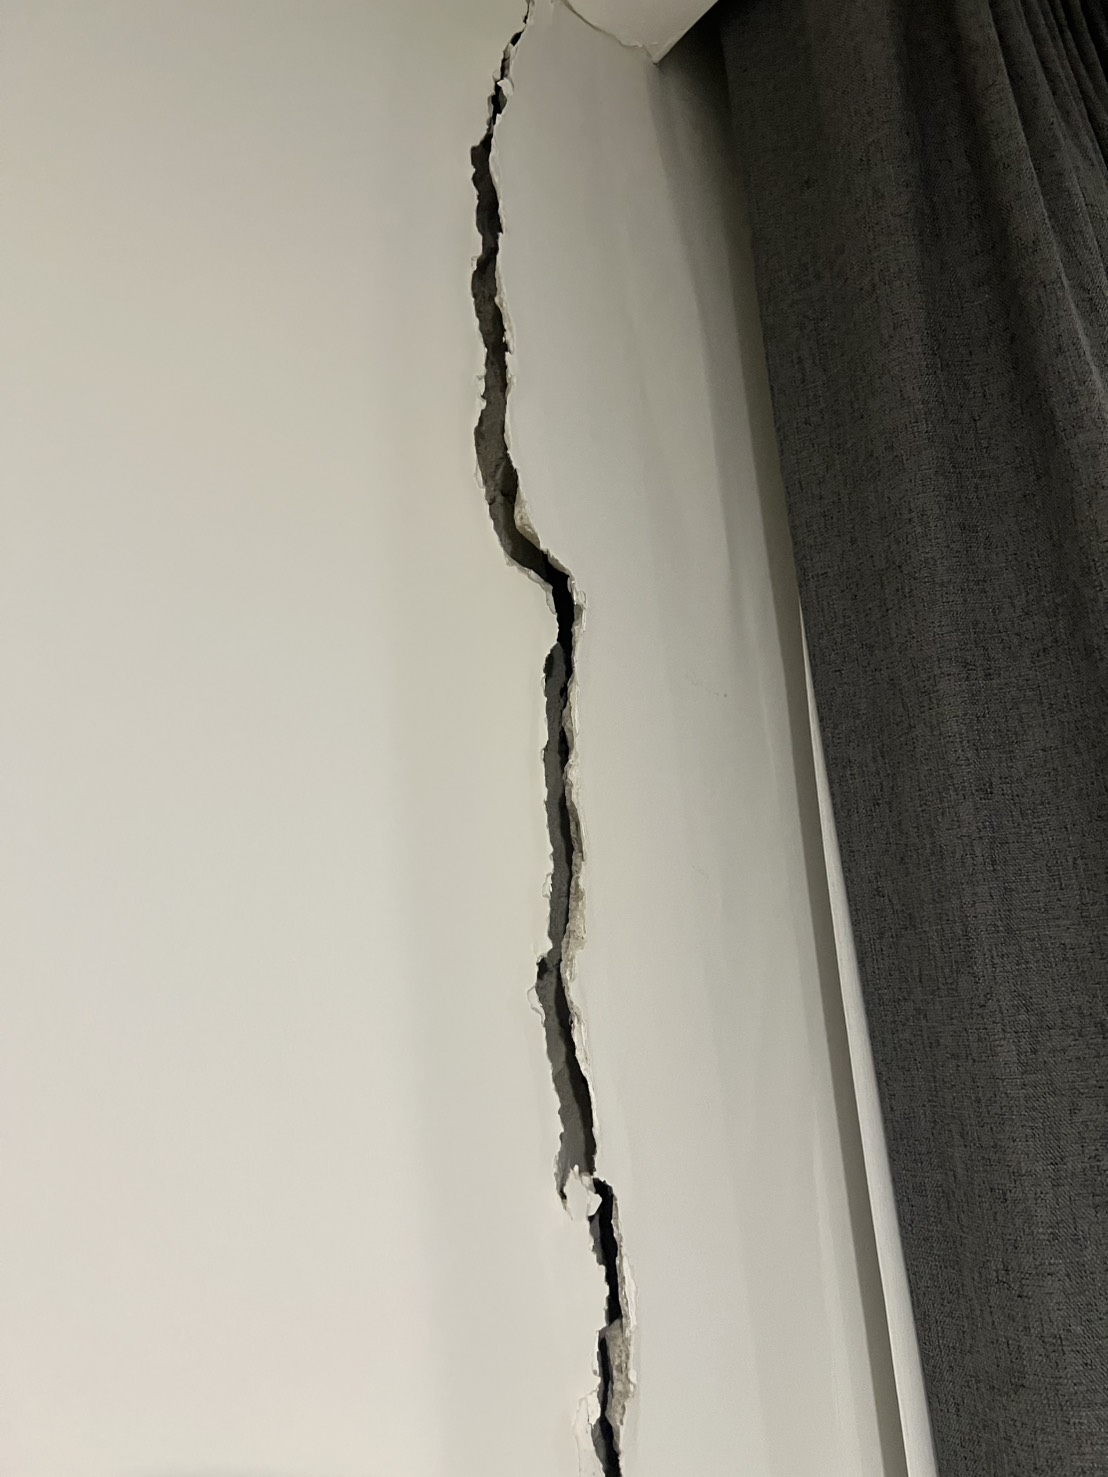Medium: (379, 102, 720, 1475)
